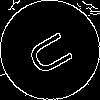U: (25, 25, 83, 79)
